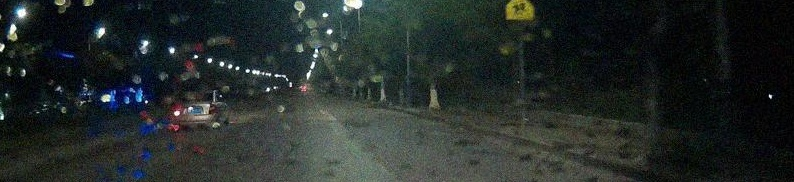L_light: (173, 105, 182, 117)
R_light: (209, 103, 217, 115)
T_light: (191, 91, 199, 94)
night-left: (172, 89, 217, 129)
